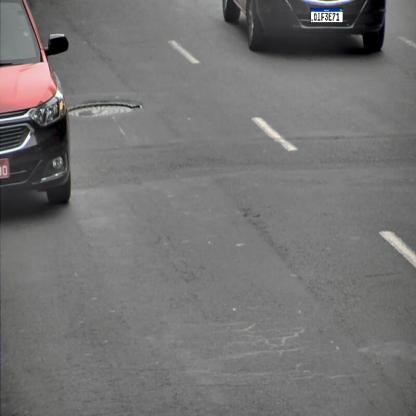PlacaM: (310, 8, 344, 23)
